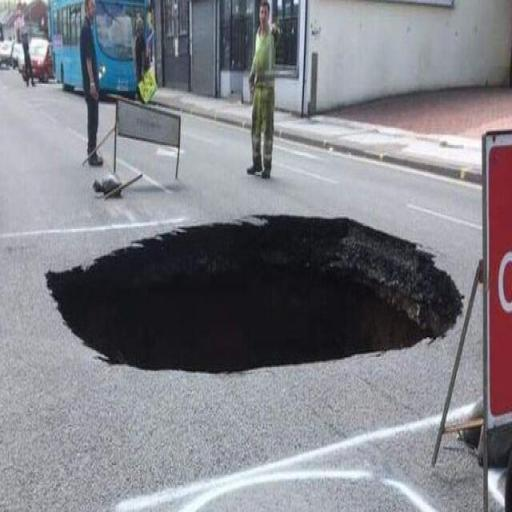Concentric_Crack: (46, 215, 462, 372)
